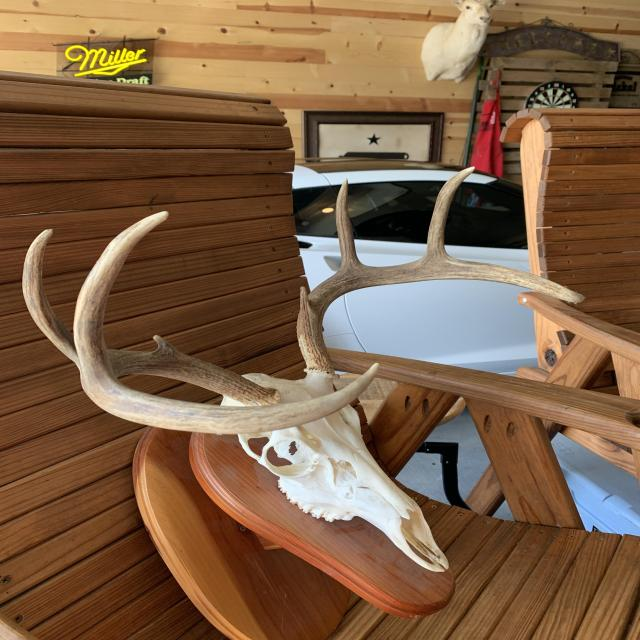L-F: (296, 258, 585, 380)
L-G1: (300, 286, 311, 312)
L-G2: (336, 178, 367, 271)
L-G3: (420, 166, 476, 261)
R-G1: (152, 335, 181, 353)
R-G3: (73, 211, 169, 391)
